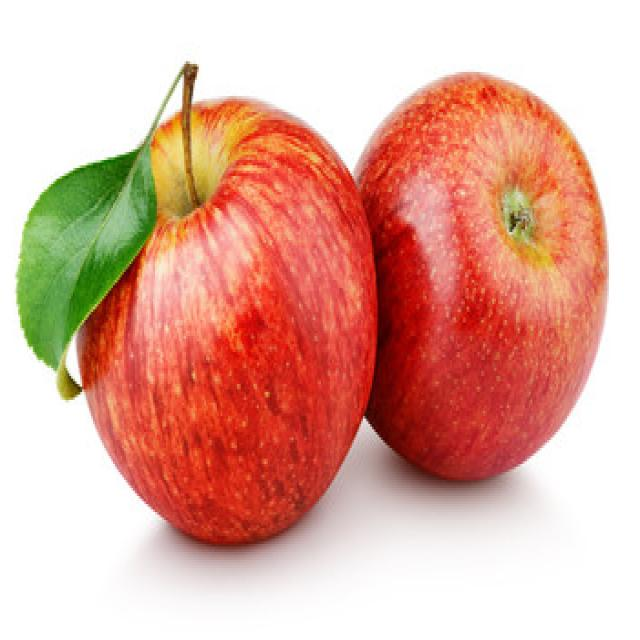Apel: (70, 100, 377, 554), (354, 65, 611, 482)
